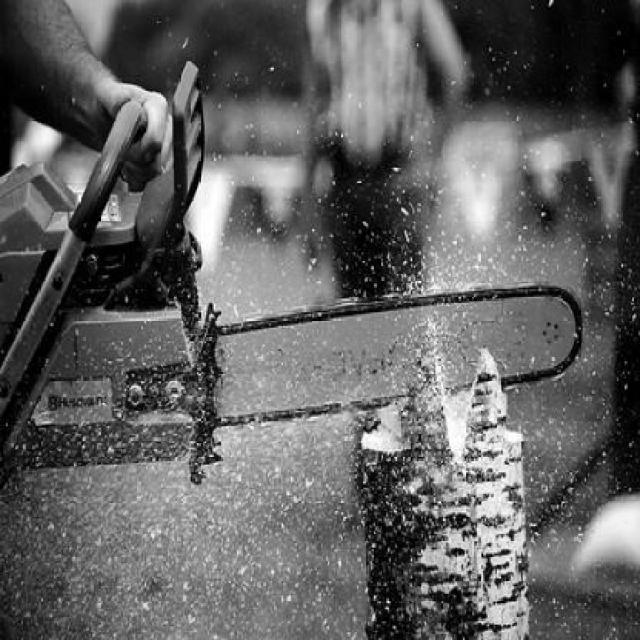Chainsaw: (0, 58, 585, 485)
